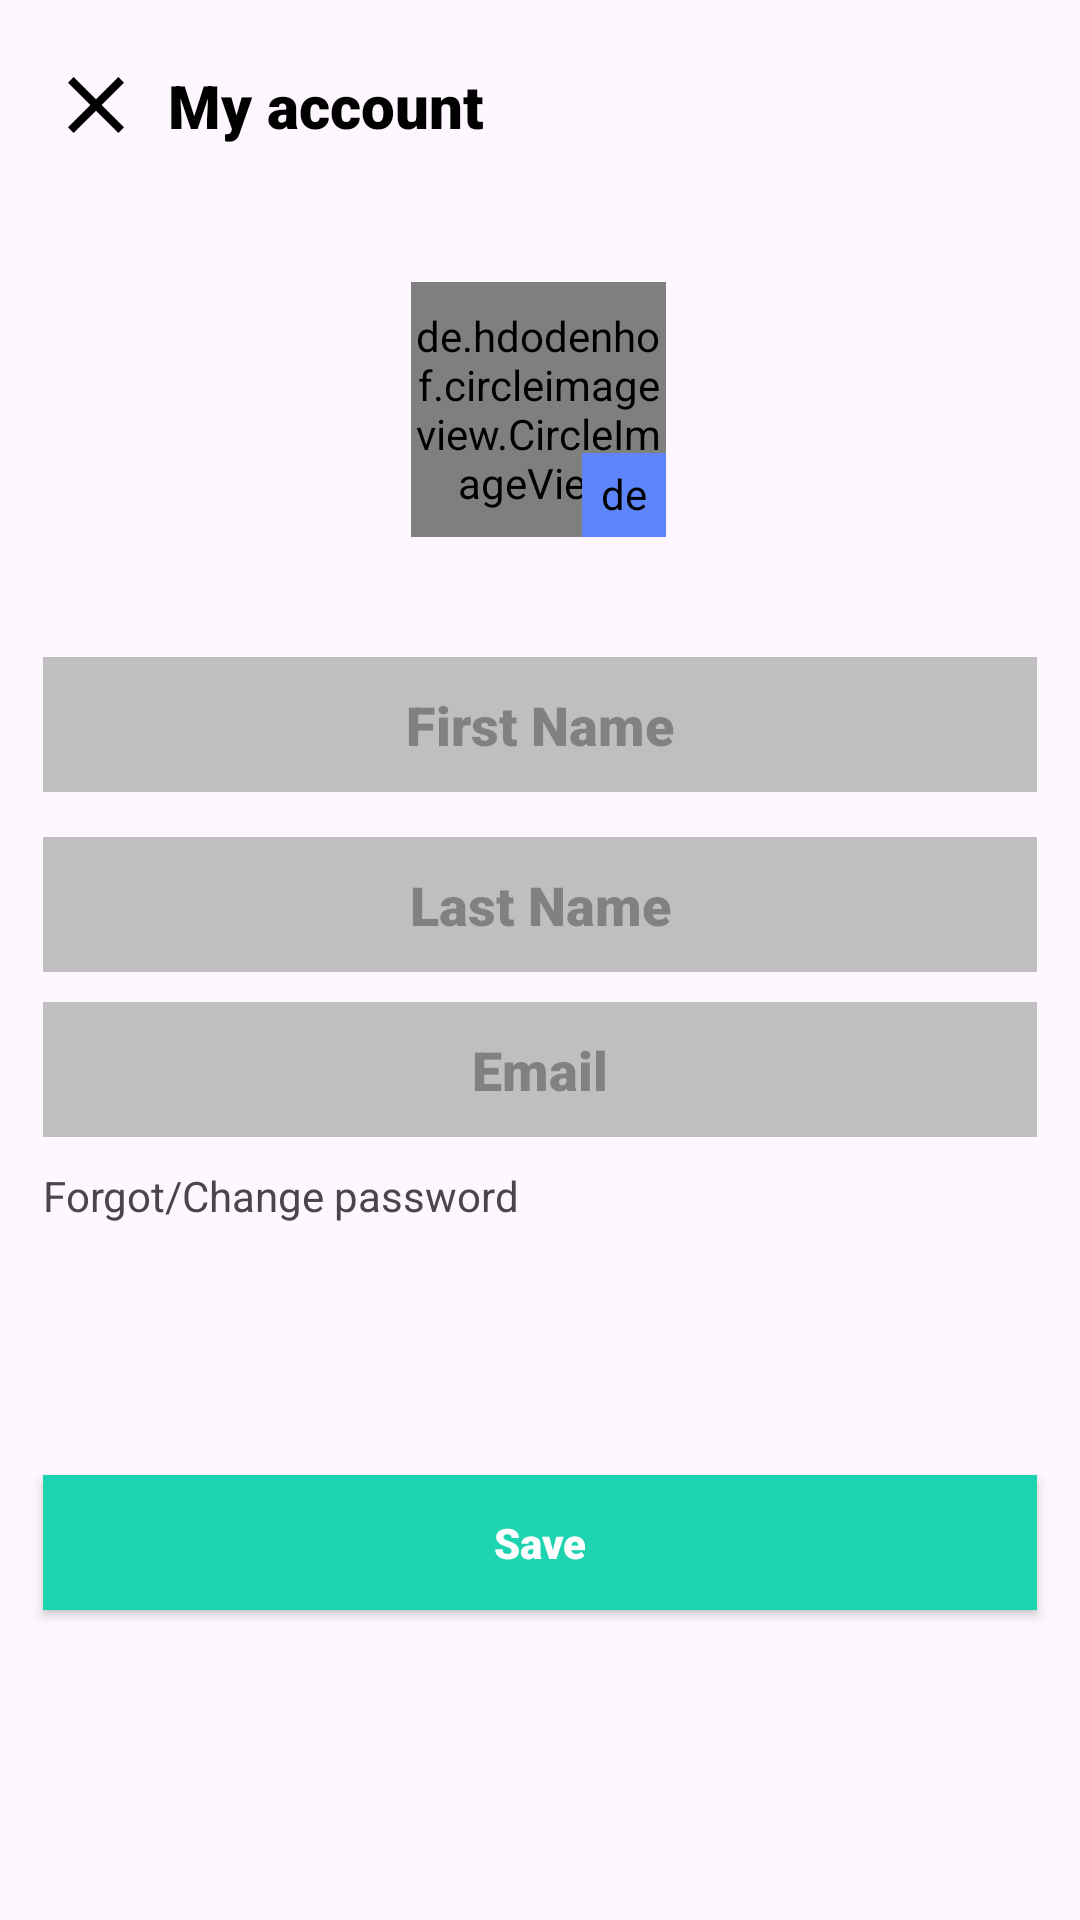

Screen size 1080x1920. Icon name, then its center in pixels as point (x, y):
close: point (96, 105)
